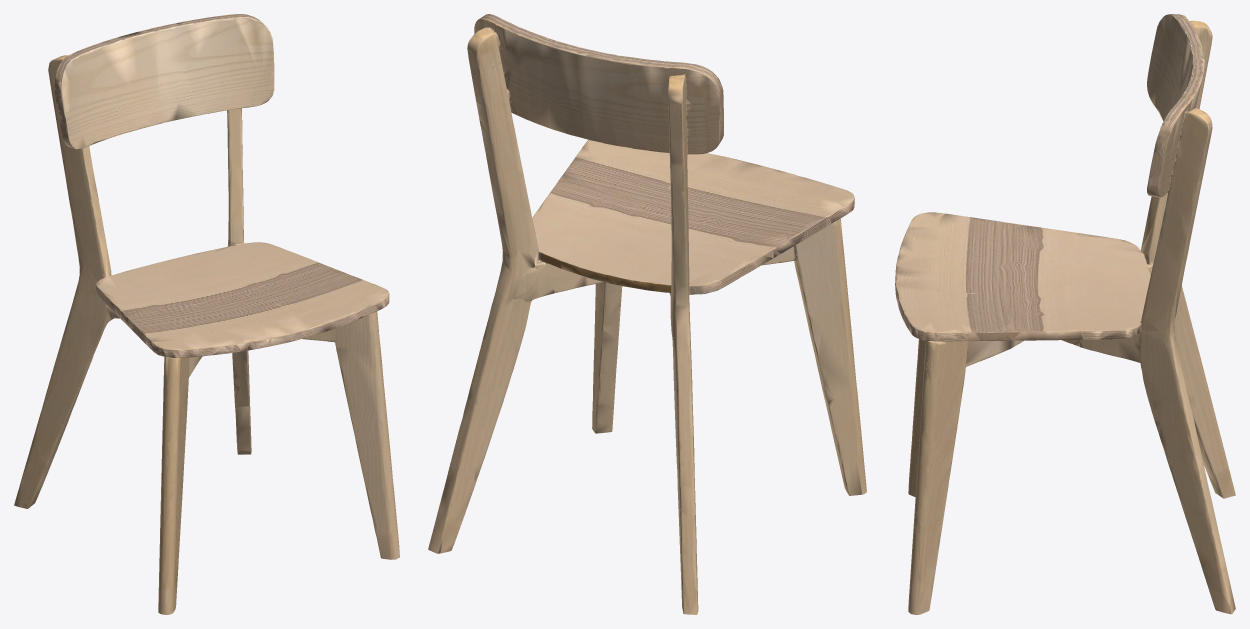
3 views of the same model, side by side, from view 1: azimuth 30°, elevation 25°; view 2: azimuth 150°, elevation 25°; view 3: azimuth 270°, elevation 25° (orthographic). The views are drawn at different scales.
Visible parts, largest first — view 1: Mesh_0; view 2: Mesh_0; view 3: Mesh_0.
Boxes of the visible parts, x1=… form: Mesh_0: x1=14, y1=14, x2=399, y2=614; Mesh_0: x1=428, y1=14, x2=866, y2=614; Mesh_0: x1=895, y1=14, x2=1235, y2=614.
Size of the model in its own units: 0.4321 by 0.79 by 0.496.
Materials: 1 (1 with a texture image).
